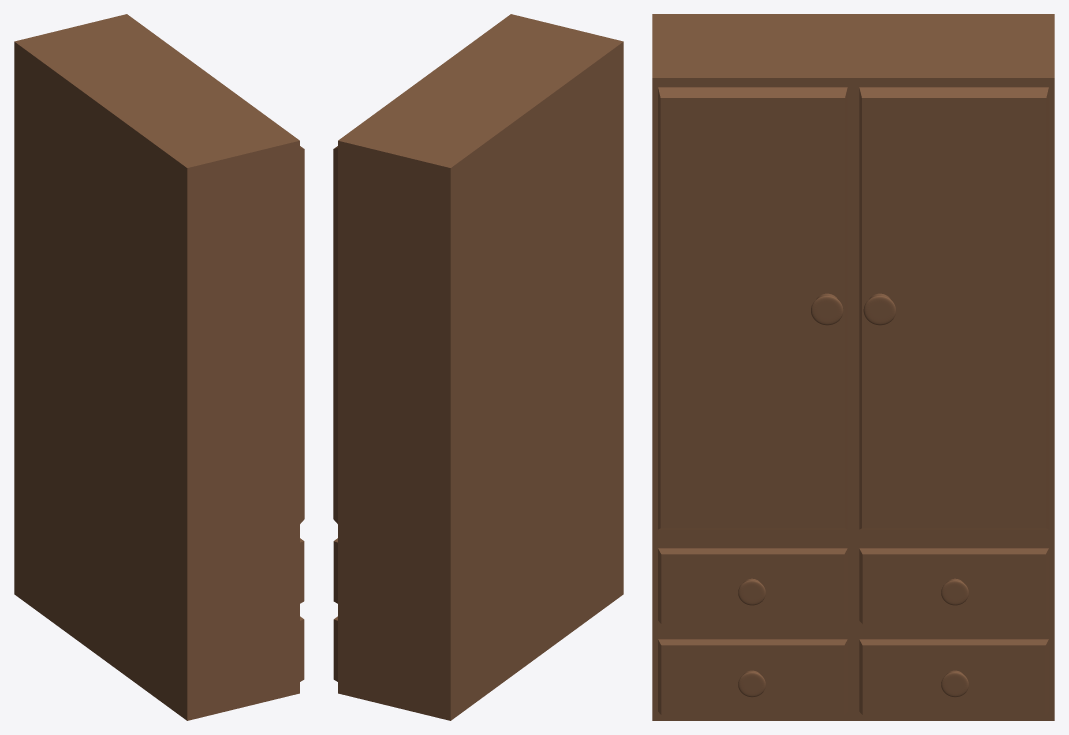
The model's file is wardrobe.fbx.
The picture shows the model from 3 angles, left to right: view 1: azimuth 30°, elevation 25°; view 2: azimuth 150°, elevation 25°; view 3: azimuth 270°, elevation 25°; orthographic projection. The views are drawn at different scales.
Visible parts, largest first — view 1: Cube; view 2: Cube; view 3: Cube, Cylinder, Cylinder.001, Cylinder.002.
Boxes of the visible parts, x1,y1,x2,y2 form: Cube: (14,14,304,720); Cube: (333,14,623,720); Cube: (652,14,1054,720); Cylinder: (811,293,895,325); Cylinder.001: (738,578,968,605); Cylinder.002: (738,670,968,697).
Size of the model in its own units: 234 by 937 by 532.
